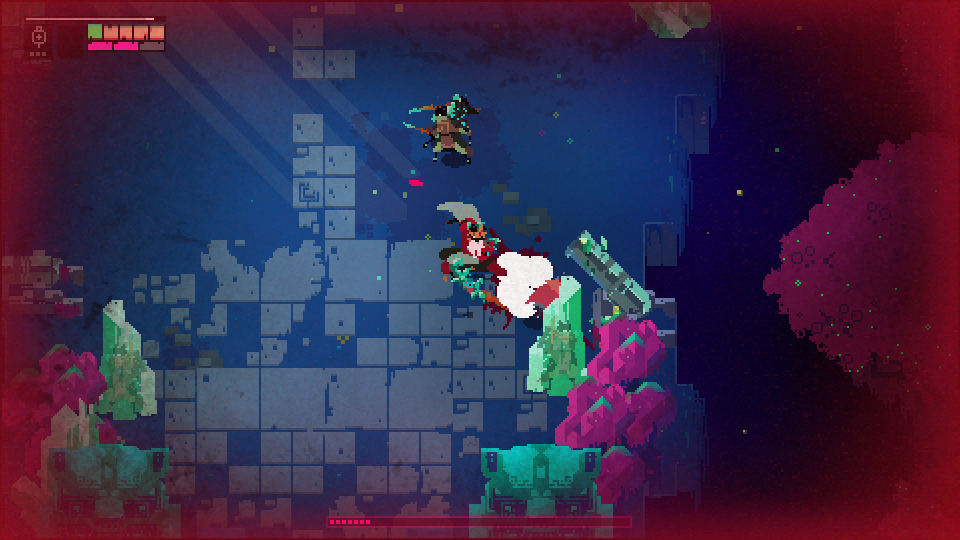hanged_man: (439, 215, 515, 309)
player: (521, 268, 572, 318)
